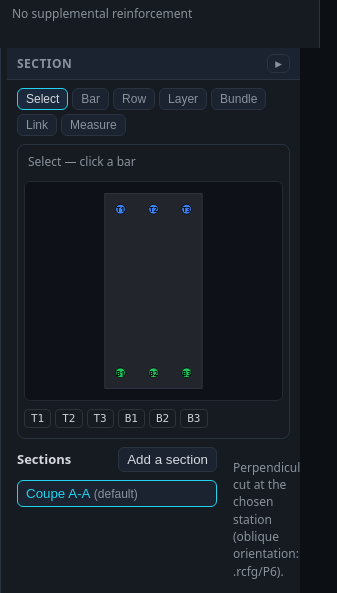
H12 — DROITE length coupled to the member with a toggle › shows the coupled (read-only) length by default and reveals the field on toggle
(page scrolled)
Click the button "T1". click: x=38, y=418
box: 24,408 -> 51,428
(page scrolled)
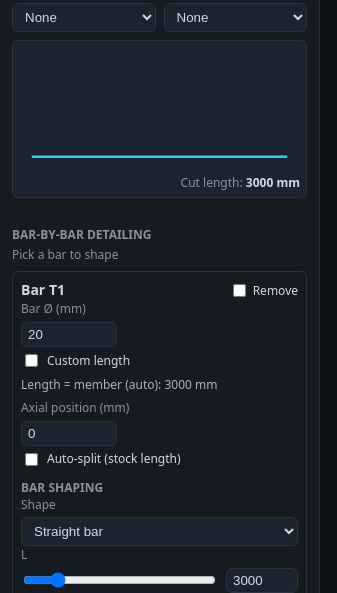
Now the text "Length = member (auto): 3000 mm" is shown, box 21,376 -> 218,393
Click the checkbox labelled "Custom length". click: x=32, y=360
box: 25,354 -> 38,367
(page scrolled)
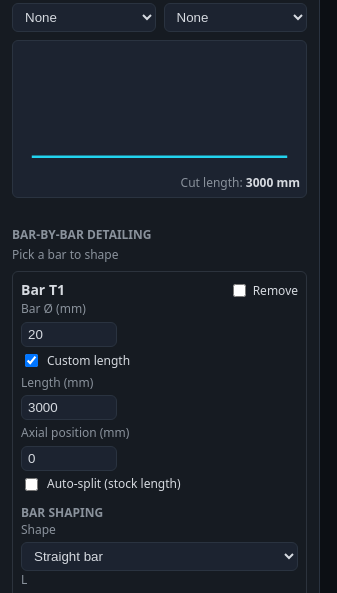
Now the text with class "addressable-coupled" is gone
Now the number field labelled "Length (mm)" is shown, box 21,395 -> 117,420
